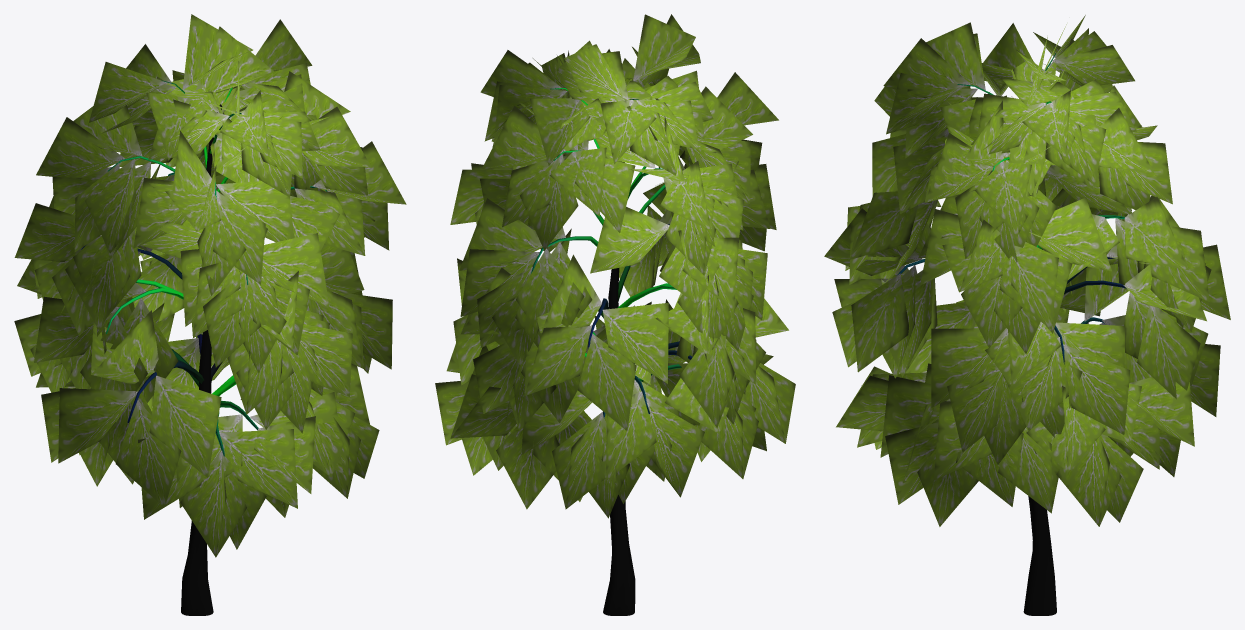
The model's file is BirchTree03.fbx.
The picture shows the model from 3 angles, left to right: view 1: azimuth 30°, elevation 25°; view 2: azimuth 150°, elevation 25°; view 3: azimuth 270°, elevation 25°; orthographic projection. The views are drawn at different scales.
Visible parts, largest first — view 1: Tree_1, Tree_0; view 2: Tree_1, Tree_0; view 3: Tree_1, Tree_0.
Boxes of the visible parts, x1,y1,x2,y2 form: Tree_1: (14, 14, 406, 557); Tree_0: (81, 80, 327, 615); Tree_1: (435, 14, 795, 518); Tree_0: (531, 88, 692, 615); Tree_1: (824, 15, 1230, 526); Tree_0: (896, 53, 1126, 615).
Size of the model in its own units: 76.62 by 132 by 81.43.
